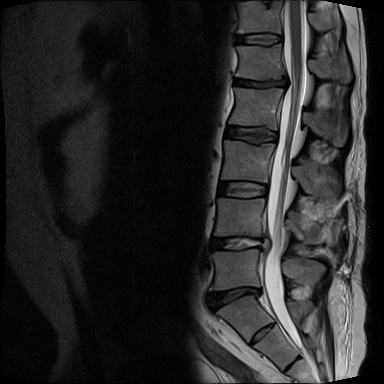Lumbar Disc Bulge (LDB): (201, 280, 269, 319), (202, 231, 279, 259), (227, 70, 296, 95)
Normal IVD: (221, 118, 284, 148), (213, 177, 273, 202), (231, 28, 286, 50)
Spinal Stenosis (SS): (254, 230, 277, 255), (247, 277, 267, 304), (277, 70, 294, 93)
Spondylolisthesis: (197, 267, 278, 331)
